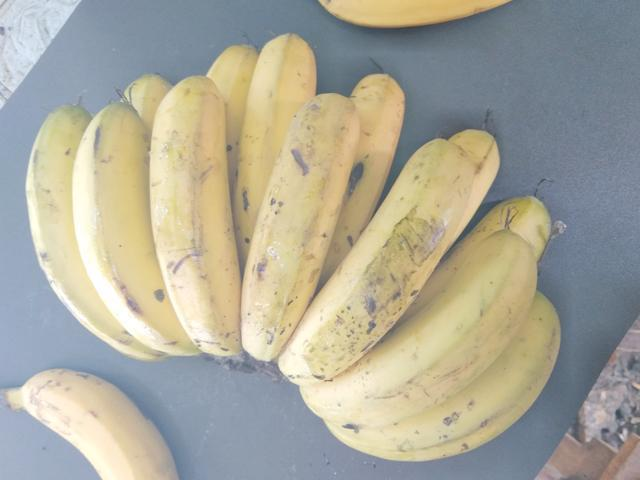ripe: (240, 160, 464, 406), (293, 251, 532, 430), (217, 110, 355, 346), (140, 71, 250, 353), (75, 97, 186, 357), (27, 89, 115, 373), (4, 377, 230, 479)
